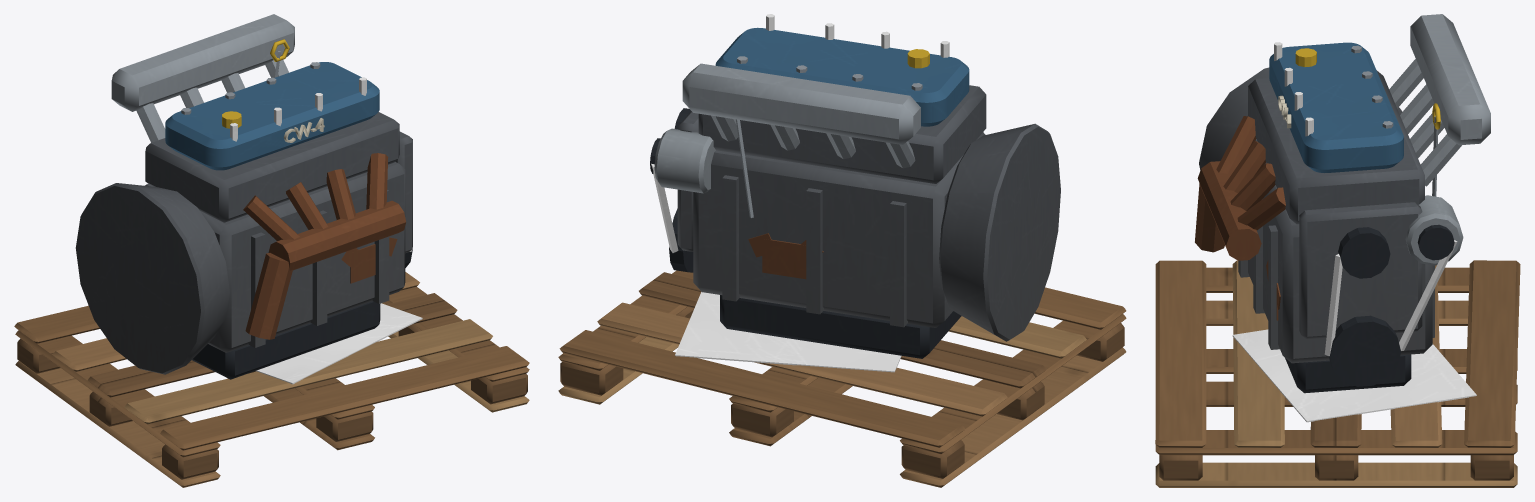
Rendered from engine_block.glb.
The picture shows the model from 3 angles, left to right: view 1: azimuth 30°, elevation 25°; view 2: azimuth 150°, elevation 25°; view 3: azimuth 270°, elevation 25°; orthographic projection. The views are drawn at different scales.
Visible parts, largest first — view 1: engine_block; view 2: engine_block; view 3: engine_block.
Part boxes in pixels (x1=…): engine_block: x1=14, y1=14, x2=529, y2=487; engine_block: x1=558, y1=14, x2=1126, y2=487; engine_block: x1=1155, y1=14, x2=1520, y2=487.
Bounding box in the file's own units: 1.2 × 1 × 1.01.
17 materials, 17 textured.
